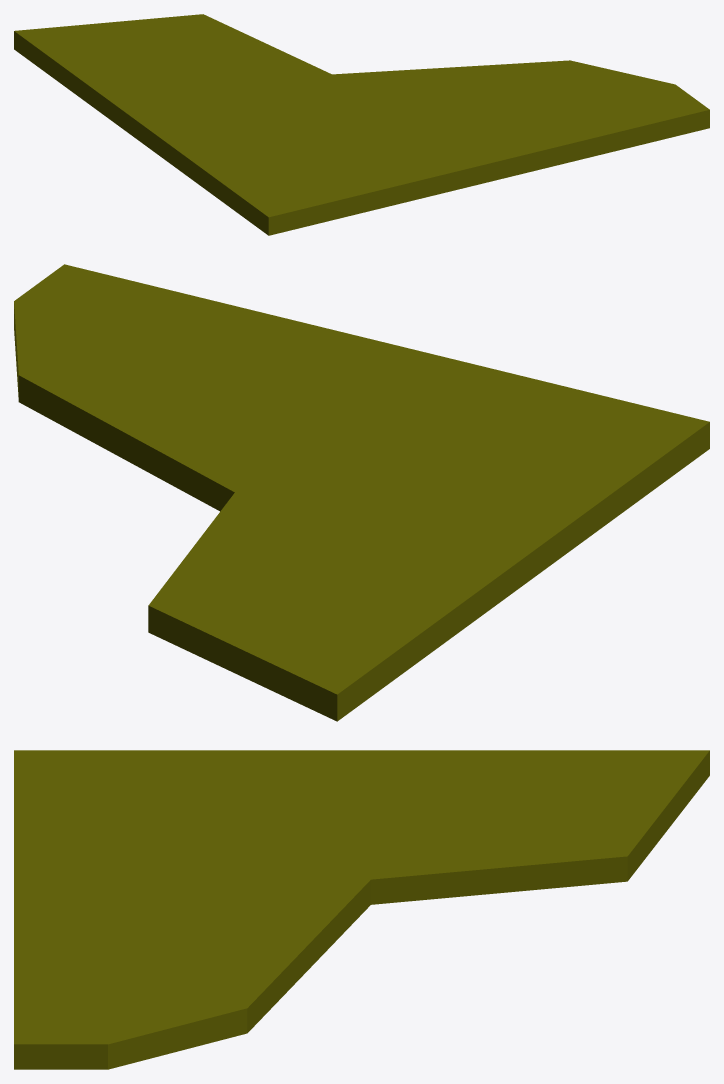
The model's file is x_0_boloto_28_1_rmstrd.fbx.
The picture shows the model from 3 angles, top to bottom: view 1: azimuth 30°, elevation 25°; view 2: azimuth 150°, elevation 25°; view 3: azimuth 270°, elevation 25°; orthographic projection. The views are drawn at different scales.
Visible parts, largest first — view 1: x_0_boloto_28_1_rmstrd1; view 2: x_0_boloto_28_1_rmstrd1; view 3: x_0_boloto_28_1_rmstrd1.
Part boxes in pixels (x1=…): x_0_boloto_28_1_rmstrd1: x1=14, y1=14, x2=709, y2=235; x_0_boloto_28_1_rmstrd1: x1=14, y1=264, x2=709, y2=721; x_0_boloto_28_1_rmstrd1: x1=14, y1=750, x2=709, y2=1069.
Size of the model in its own units: 5 by 0.2 by 5.
